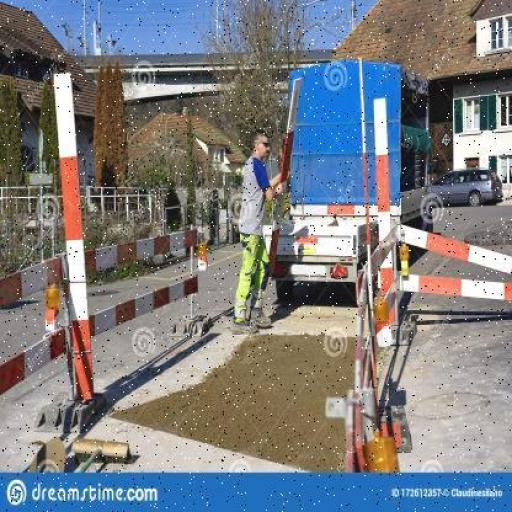person: (228, 120, 289, 334)
safety_shoe: (248, 308, 274, 331), (229, 315, 257, 335)
